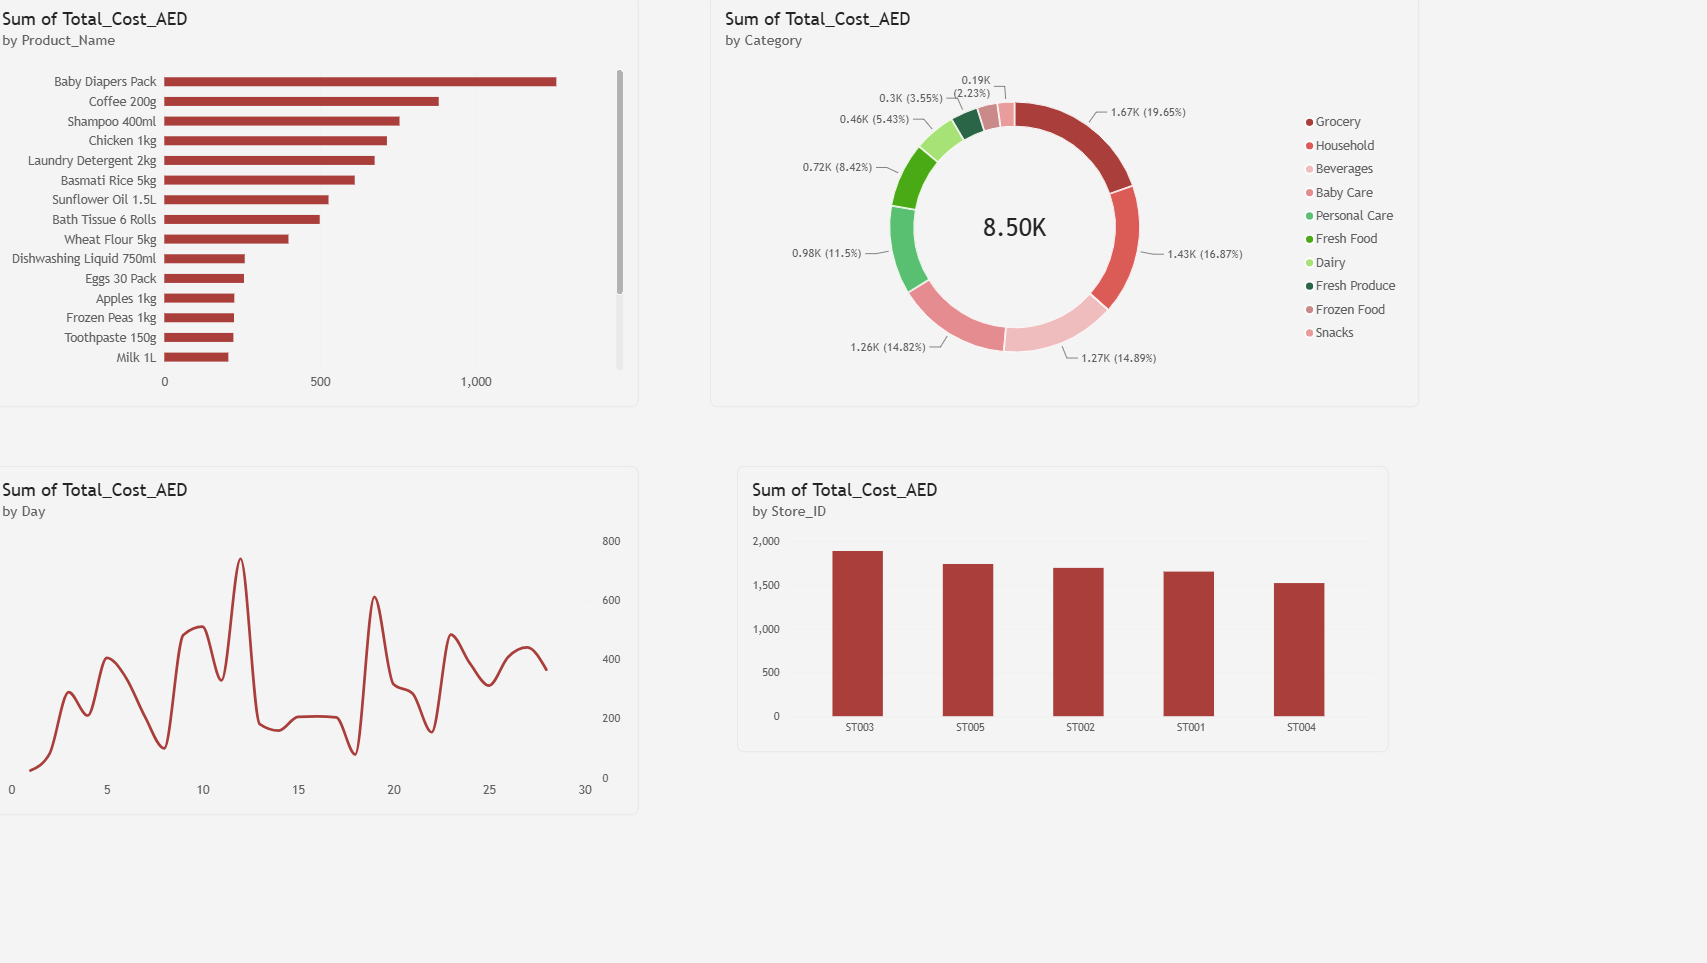

This screenshot's page, from the dashboard's own definition file:
{"tool":"powerbi","page":{"name":"Sales Analysis","canvas":[1920,1080],"ordinal":1},"visuals":[{"type":"clusteredBarChart","fields":{"Category":["Product_Master.Product_Name"],"Y":["Sum(Sales_Data.Total_Cost_AED)"]},"box":[0,0,724,458],"z":0},{"type":"lineChart","fields":{"Category":["Sales_Data.Transaction_Date.Variation.Date Hierarchy.Year","Sales_Data.Transaction_Date.Variation.Date Hierarchy.Quarter","Sales_Data.Transaction_Date.Variation.Date Hierarchy.Month","Sales_Data.Transaction_Date.Variation.Date Hierarchy.Day"],"Y2":["Sum(Sales_Data.Total_Cost_AED)"]},"box":[0,524,724,388],"z":1000},{"type":"donutChart","fields":{"Category":["Product_Master.Category"],"Y":["Sum(Sales_Data.Total_Cost_AED)"]},"box":[802,0,788,458],"z":1001},{"type":"clusteredColumnChart","fields":{"Category":["Store_Master.Store_ID"],"Y":["Sum(Sales_Data.Total_Cost_AED)"]},"box":[834,524,724,318],"z":1002}]}

Visuals, with their boxes in screenshot pixels (x1, y1, x2, y2), scaled from the page's 1920x1080 canvas onto the 1707x963 screenshot:
clusteredBarChart - Product_Master.Product_Name x Sum(Sales_Data.Total_Cost_AED): <region>0, 0, 644, 408</region>
lineChart - Sales_Data.Transaction_Date.Variation.Date Hierarchy.Year x Sales_Data.Transaction_Date.Variation.Date Hierarchy.Quarter: <region>0, 467, 644, 813</region>
donutChart - Product_Master.Category x Sum(Sales_Data.Total_Cost_AED): <region>713, 0, 1414, 408</region>
clusteredColumnChart - Store_Master.Store_ID x Sum(Sales_Data.Total_Cost_AED): <region>741, 467, 1385, 751</region>
